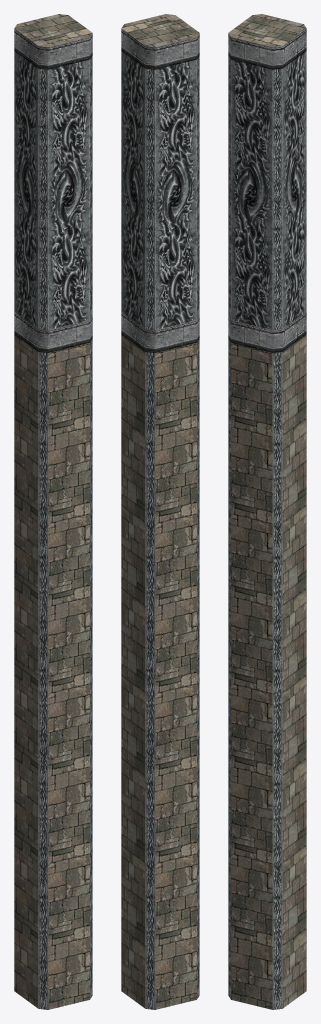
Rendered from S_dcr3.glb.
3 views of the same model, side by side, from view 1: azimuth 30°, elevation 25°; view 2: azimuth 210°, elevation 25°; view 3: azimuth 330°, elevation 25° (orthographic).
Visible parts, largest first — view 1: S_dcr3-col; view 2: S_dcr3-col; view 3: S_dcr3-col.
Boxes of the visible parts, bbox=[...] form: S_dcr3-col: bbox=[14, 14, 92, 1009]; S_dcr3-col: bbox=[121, 14, 199, 1009]; S_dcr3-col: bbox=[228, 14, 306, 1009].
Size of the model in its own units: 1 by 17 by 1.
2 materials, 2 textured.
